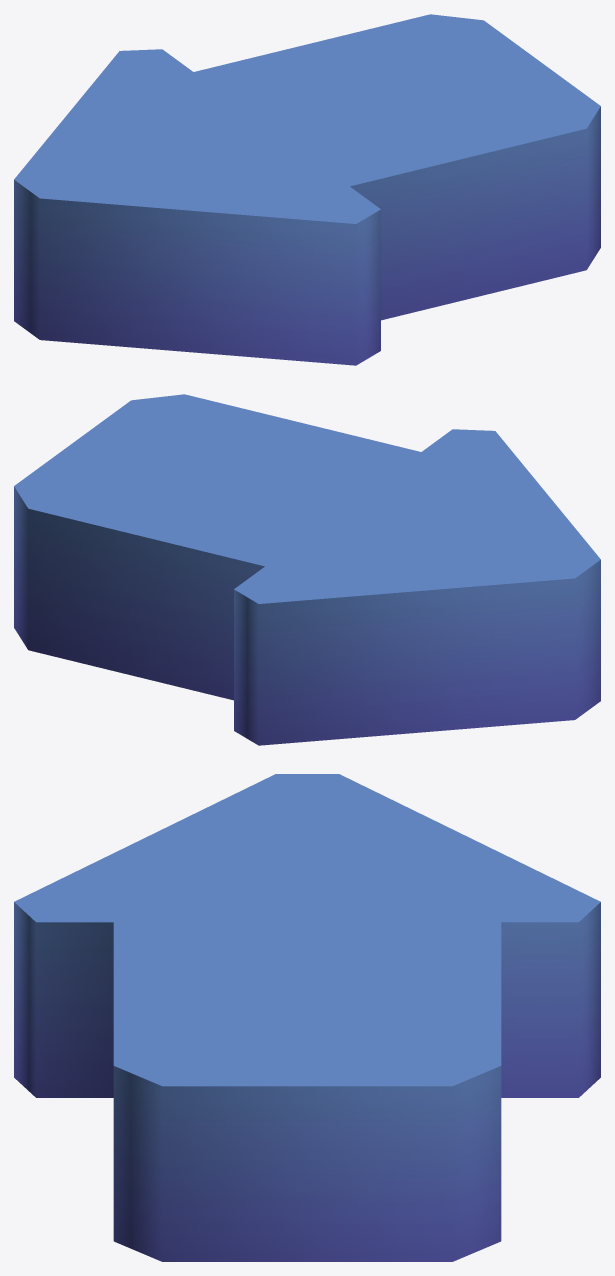
File: kenney-factory-arrow-rounded.glb
3 renders of one model, top to bottom at view 1: azimuth 30°, elevation 25°; view 2: azimuth 150°, elevation 25°; view 3: azimuth 270°, elevation 25°, orthographic. The views are drawn at different scales.
Parts seen in each view (by area): view 1: arrow-rounded; view 2: arrow-rounded; view 3: arrow-rounded.
Part boxes in pixels (x1,y1,x2,y2): arrow-rounded: [14, 14, 600, 365]; arrow-rounded: [14, 394, 600, 745]; arrow-rounded: [14, 774, 600, 1261].
Size of the model in its own units: 0.7618 by 0.2 by 0.6056.
1 material, 1 textured.
